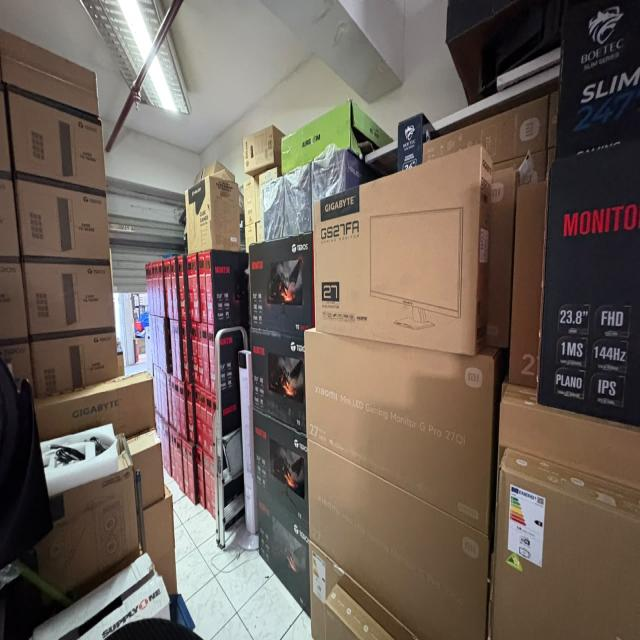caja-monitor: (305, 331, 503, 536), (312, 143, 493, 357), (308, 439, 490, 639), (537, 140, 640, 426), (490, 449, 640, 639), (423, 94, 548, 164), (509, 183, 548, 387), (256, 483, 311, 619), (253, 409, 310, 532), (249, 232, 315, 336), (487, 167, 521, 349), (251, 328, 306, 435), (325, 583, 394, 639), (205, 251, 249, 325), (178, 255, 190, 320), (187, 441, 199, 505), (182, 320, 194, 383), (159, 317, 172, 374), (198, 252, 208, 323), (170, 257, 181, 320), (186, 383, 197, 444), (201, 323, 210, 392), (191, 253, 200, 322), (205, 390, 214, 458), (175, 320, 185, 381), (194, 384, 203, 448), (187, 255, 195, 321), (197, 444, 205, 509), (204, 451, 212, 515), (191, 322, 199, 385), (182, 438, 190, 499), (179, 381, 187, 440), (177, 435, 185, 494), (201, 388, 208, 454), (158, 260, 166, 317), (209, 456, 216, 520), (166, 259, 173, 319), (170, 319, 177, 379), (197, 323, 203, 387), (165, 423, 172, 477), (151, 262, 158, 316), (166, 374, 173, 427), (175, 379, 181, 435), (171, 375, 177, 431), (155, 261, 161, 317), (156, 316, 162, 369)
